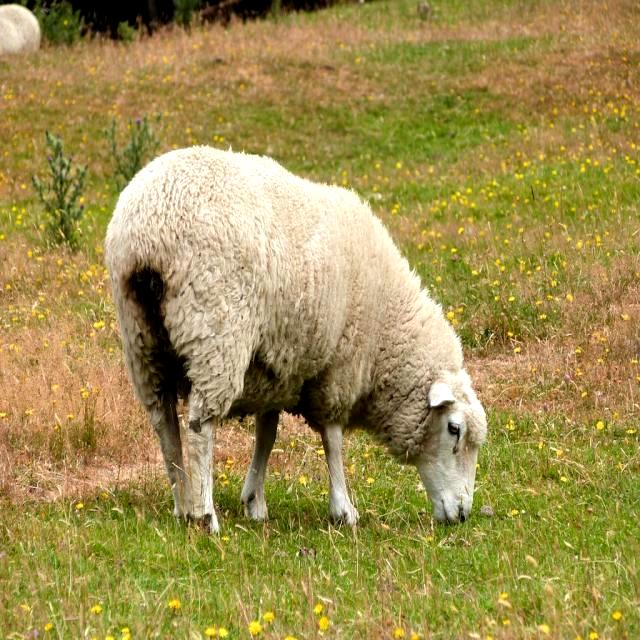sheep: (104, 144, 487, 524)
